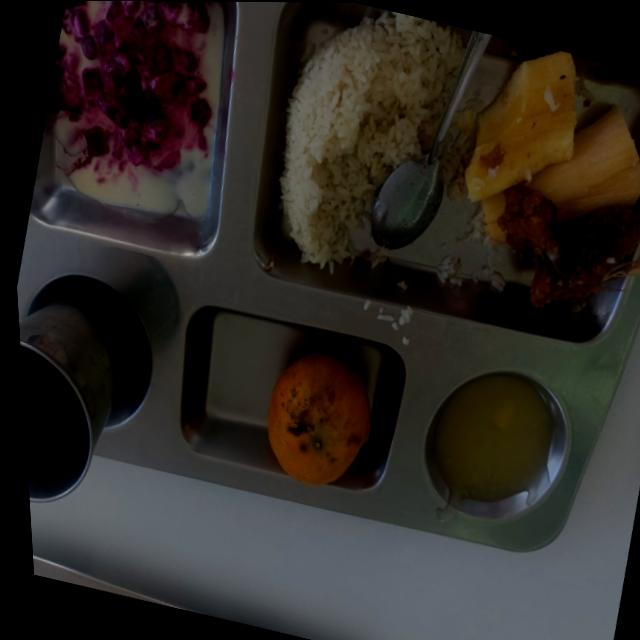arroz: (280, 11, 463, 270), (444, 166, 462, 185), (446, 142, 467, 154), (452, 156, 461, 166), (454, 188, 461, 195), (374, 257, 382, 263), (459, 136, 463, 142), (468, 113, 471, 120)
mandarina: (268, 351, 370, 484)
pescado frito: (498, 184, 639, 305)
yuca: (465, 51, 639, 223), (488, 225, 503, 241)
